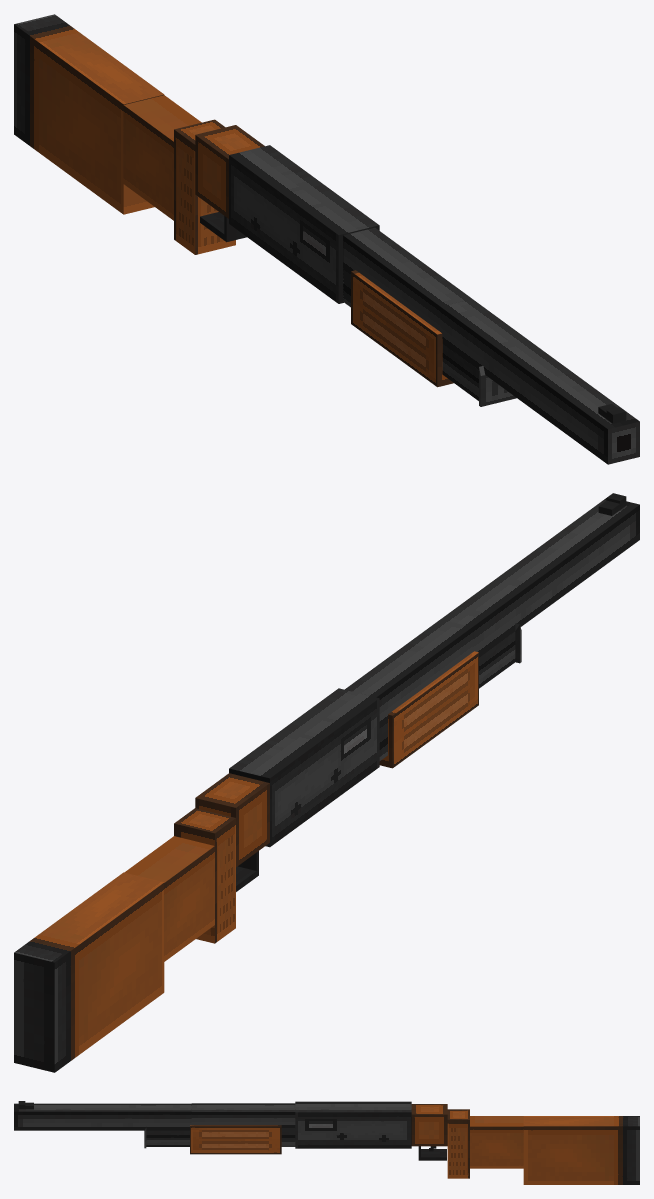
File: BGN_PUMP SHOTGUN.fbx
3 renders of one model, top to bottom at view 1: azimuth 30°, elevation 25°; view 2: azimuth 150°, elevation 25°; view 3: azimuth 270°, elevation 25°, orthographic. The views are drawn at different scales.
Visible parts, largest first — view 1: BGN_PUMP_SHOTGUN, CLIP; view 2: BGN_PUMP_SHOTGUN, CLIP; view 3: BGN_PUMP_SHOTGUN, CLIP.
Boxes of the visible parts, left/top/right/bottom form: BGN_PUMP_SHOTGUN: left=14, top=14, right=639, bottom=464; CLIP: left=351, top=270, right=453, bottom=387; BGN_PUMP_SHOTGUN: left=14, top=493, right=639, bottom=1072; CLIP: left=379, top=651, right=478, bottom=768; BGN_PUMP_SHOTGUN: left=14, top=1101, right=639, bottom=1184; CLIP: left=190, top=1125, right=281, bottom=1154.
Size of the model in its own units: 10.51 by 35.15 by 260.
